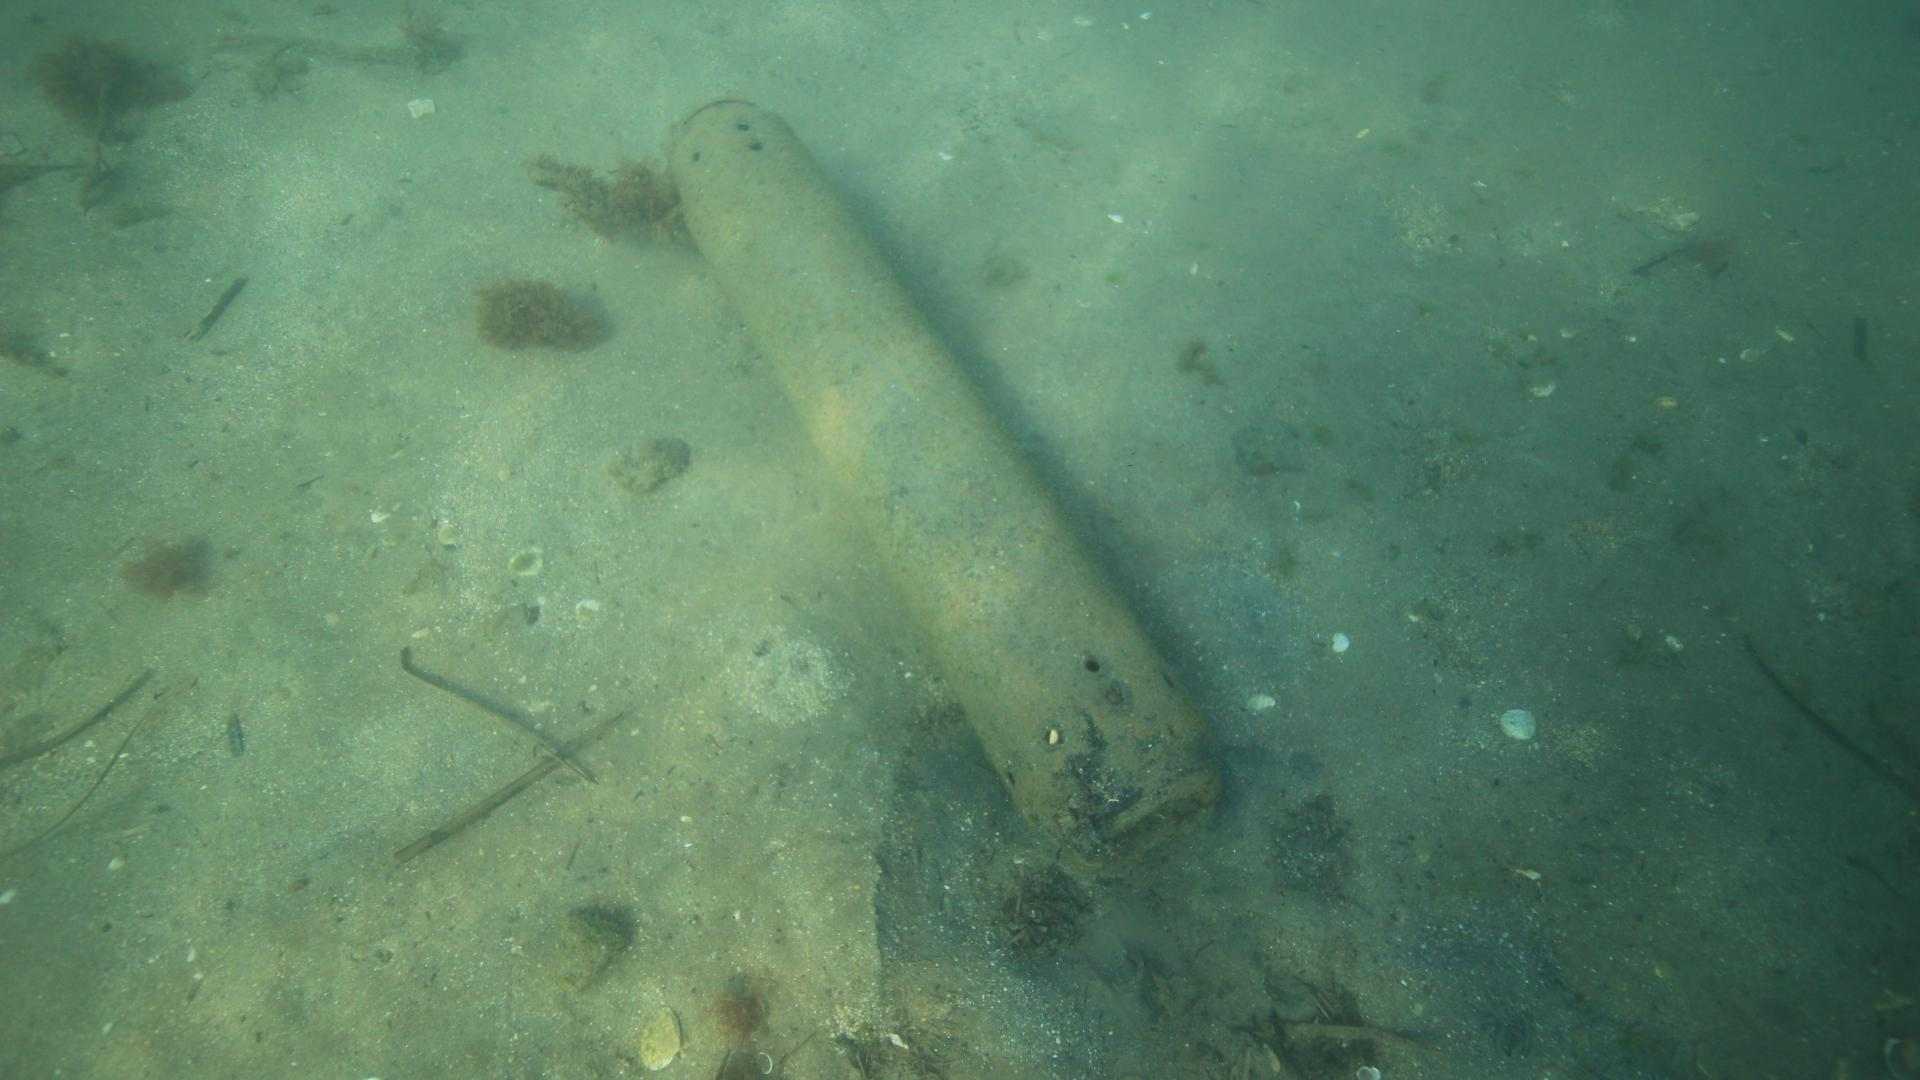eel fish trap: (665, 94, 1224, 868)
